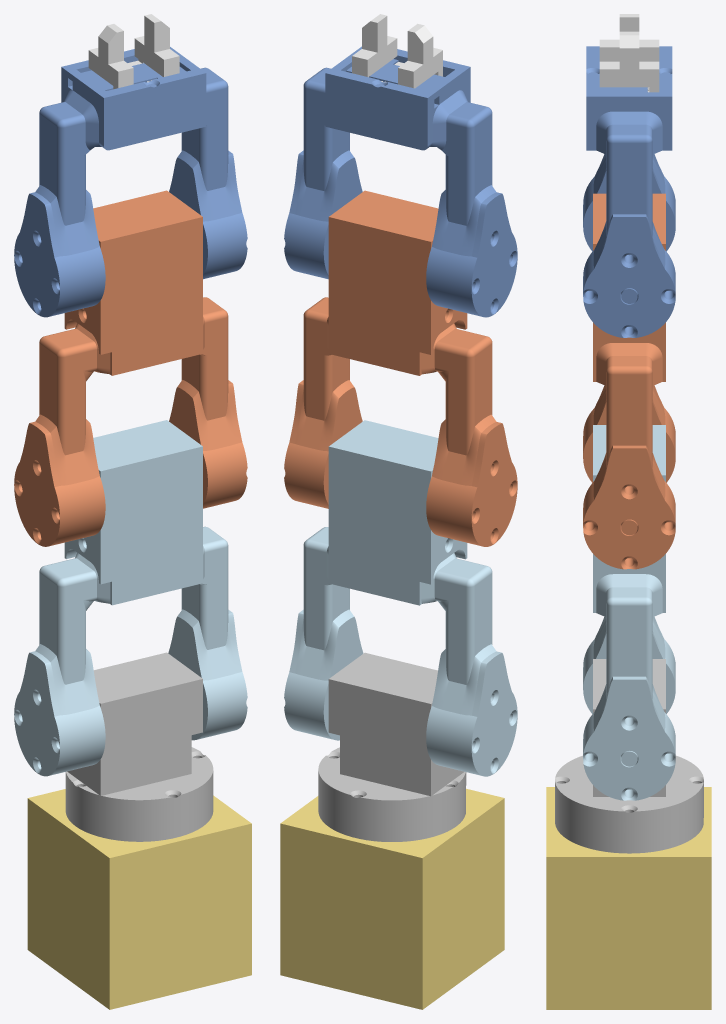
File: robotarm.glb
The picture shows the model from 3 angles, left to right: view 1: azimuth 30°, elevation 25°; view 2: azimuth 150°, elevation 25°; view 3: azimuth 270°, elevation 25°; orthographic projection.
Visible parts, largest first — view 1: ArmJ2, ArmJ3, Base, ArmGriper, Gear for Base, lid, Right_Finger, Left_Fringer; view 2: ArmJ2, ArmJ3, Base, ArmGriper, Gear for Base, lid, Right_Finger, Left_Fringer; view 3: Base, ArmJ2, ArmJ3, ArmGriper, Gear for Base, lid, Left_Fringer, Right_Finger.
Part boxes in pixels (left/top/right/bottom): ArmJ2: left=14, top=420, right=247, bottom=776; ArmJ3: left=14, top=190, right=247, bottom=546; Base: left=27, top=789, right=251, bottom=1009; ArmGriper: left=14, top=58, right=247, bottom=317; Gear for Base: left=65, top=652, right=213, bottom=841; lid: left=61, top=47, right=206, bottom=103; Right_Finger: left=88, top=24, right=151, bottom=89; Left_Fringer: left=127, top=14, right=179, bottom=76; ArmJ2: left=284, top=420, right=517, bottom=776; ArmJ3: left=284, top=190, right=517, bottom=546; Base: left=280, top=788, right=504, bottom=1009; ArmGriper: left=284, top=59, right=517, bottom=317; Gear for Base: left=318, top=652, right=466, bottom=841; lid: left=325, top=46, right=470, bottom=103; Right_Finger: left=394, top=23, right=442, bottom=88; Left_Fringer: left=352, top=14, right=397, bottom=82; Base: left=546, top=787, right=711, bottom=1009; ArmJ2: left=583, top=425, right=675, bottom=800; ArmJ3: left=583, top=193, right=675, bottom=569; ArmGriper: left=583, top=72, right=675, bottom=337; Gear for Base: left=555, top=659, right=703, bottom=853; lid: left=586, top=46, right=672, bottom=102; Left_Fringer: left=599, top=31, right=659, bottom=92; Right_Finger: left=599, top=14, right=659, bottom=61.
Bounding box in the file's own units: 0.066 × 0.3161 × 0.05.
